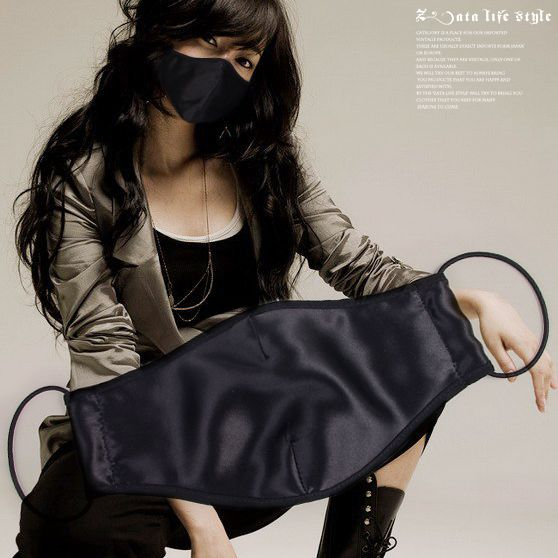face_mask: (165, 0, 263, 123)
